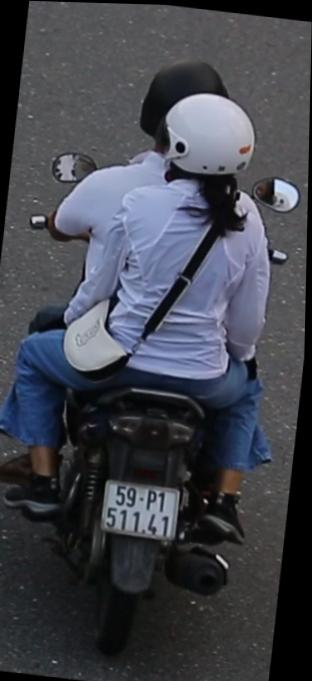LP: (97, 472, 188, 546)
helmet: (150, 83, 265, 213), (137, 45, 234, 129)
